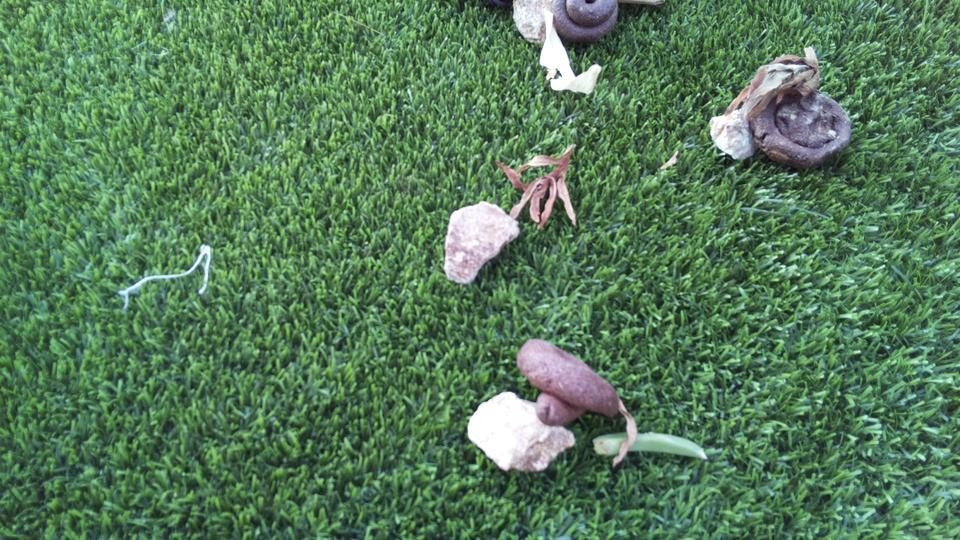poop: (515, 334, 623, 424), (754, 86, 857, 169), (548, 1, 621, 49)
